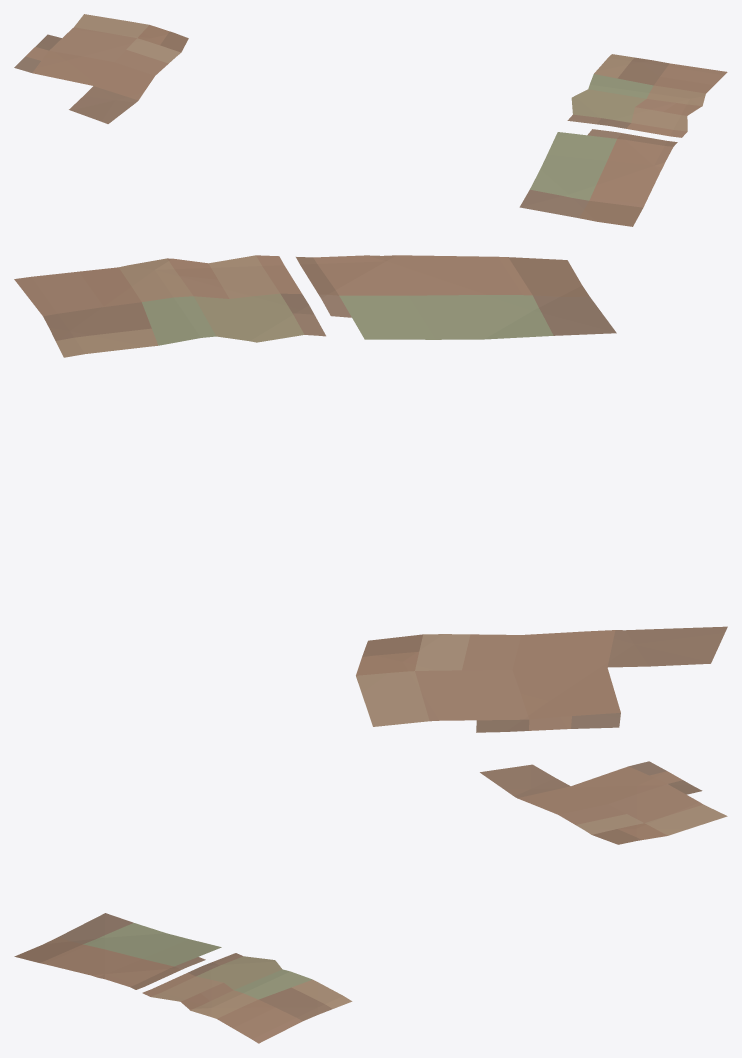
Rendered from farm_22_26_soil.glb.
The picture shows the model from 3 angles, top to bottom: view 1: azimuth 30°, elevation 25°; view 2: azimuth 150°, elevation 25°; view 3: azimuth 270°, elevation 25°; orthographic projection. The views are drawn at different scales.
Parts seen in each view (by area): view 1: geometry_0; view 2: geometry_0; view 3: geometry_0.
Boxes of the visible parts, <box> form: geometry_0: <box>14,14,727,226</box>; geometry_0: <box>14,255,727,732</box>; geometry_0: <box>14,761,727,1043</box>.
Bounding box in the file's own units: 500 × 24.88 × 537.
